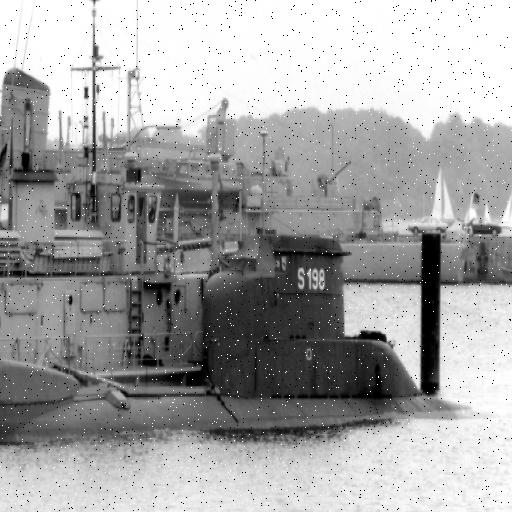submarine: (1, 235, 483, 423)
